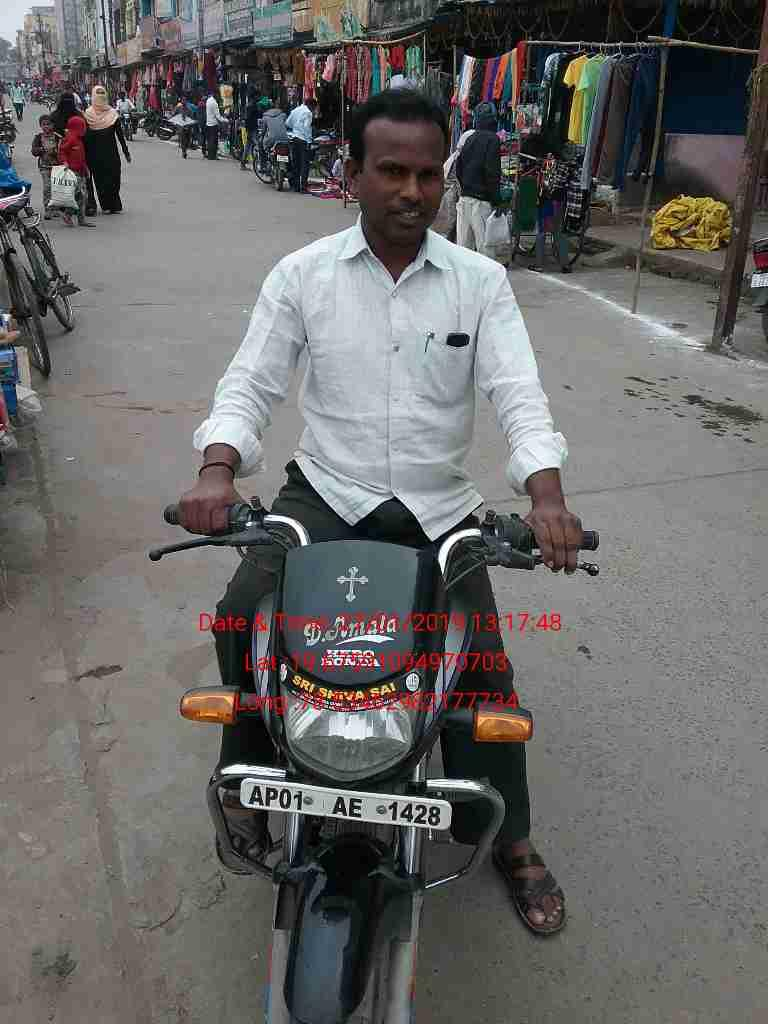plate: (235, 775, 452, 838)
